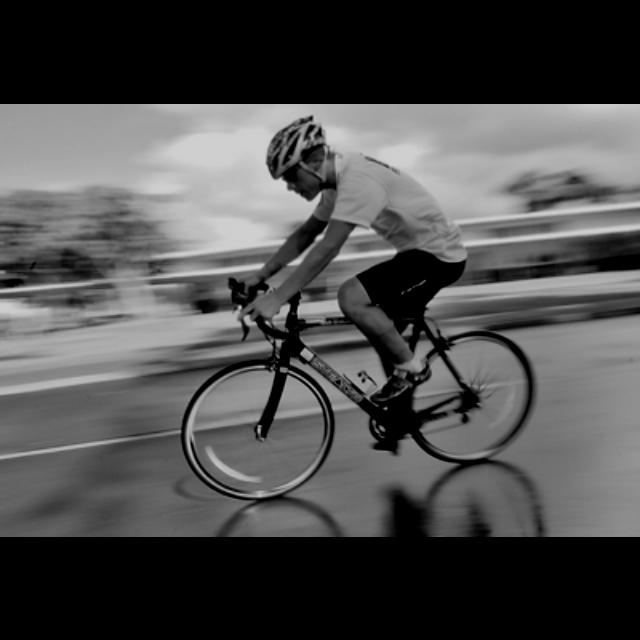With Helmet: (256, 110, 332, 202)
